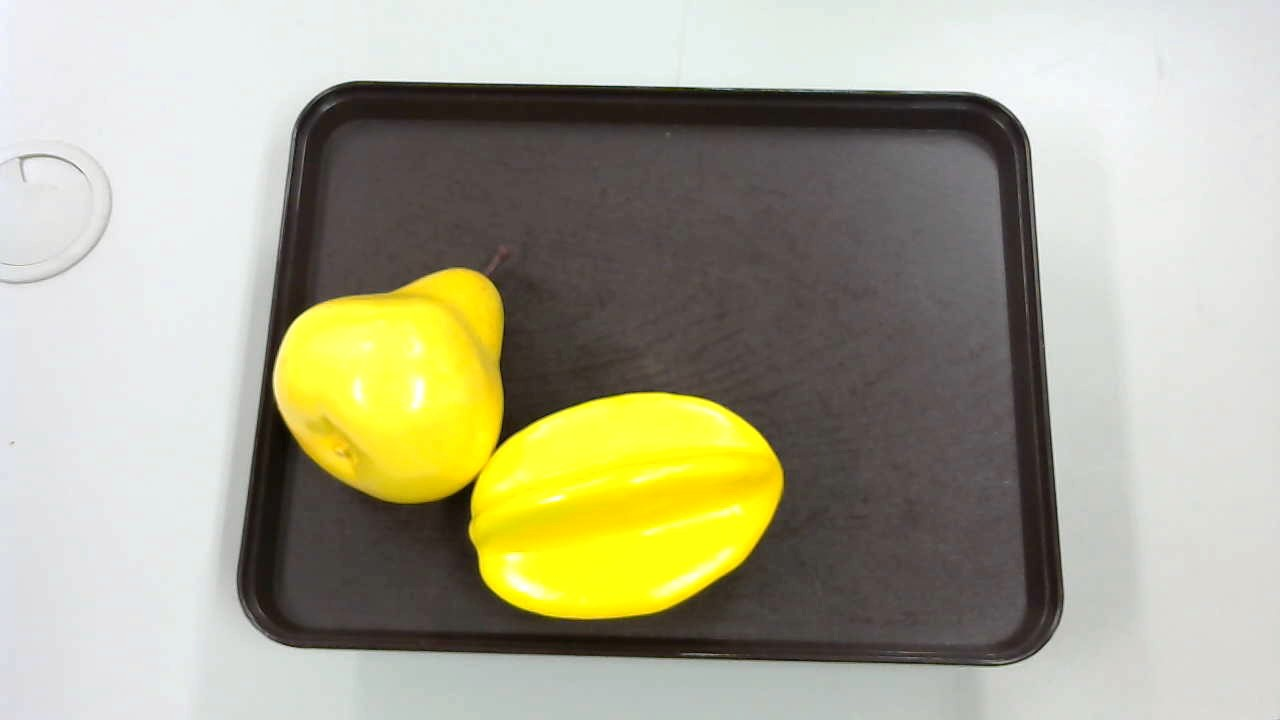star fruit: (466, 393, 793, 620)
yellow pear: (270, 251, 510, 516)
